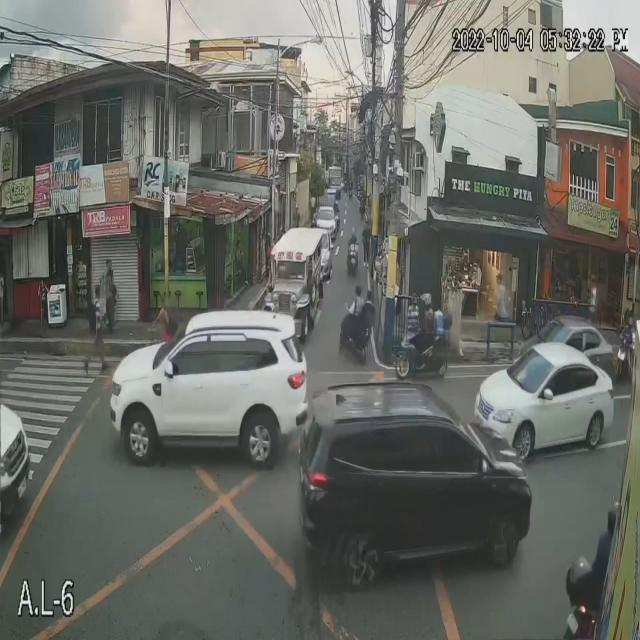Full-Faced: (605, 499, 624, 532), (417, 284, 433, 315), (626, 308, 637, 334), (347, 218, 353, 244), (351, 222, 359, 241)
Not-Wearing-Helmet: (353, 282, 367, 305), (366, 284, 376, 308)
